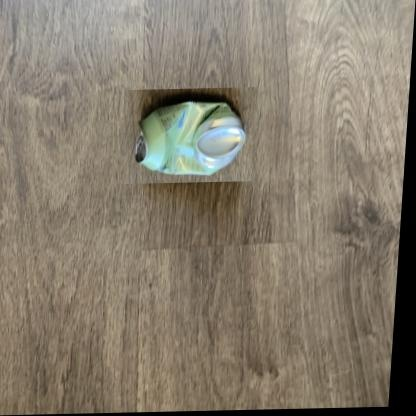trash: (135, 101, 245, 175)
